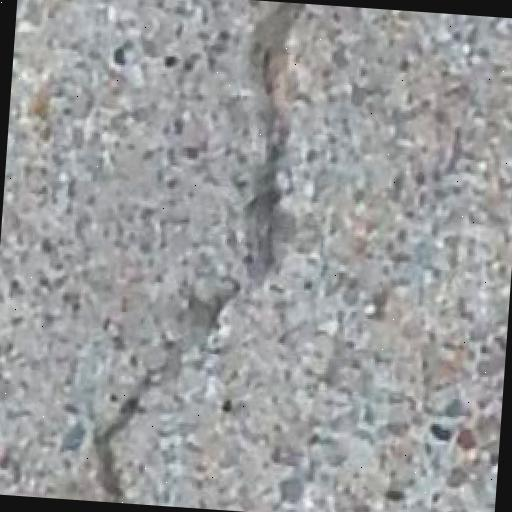spalling: (71, 9, 338, 501)
